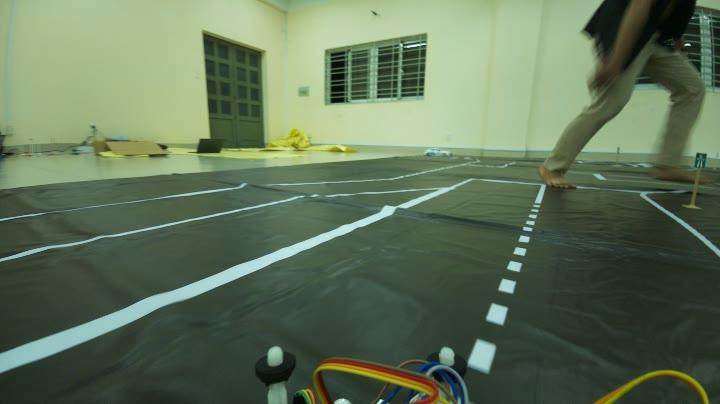highway_entry: (690, 147, 710, 176)
